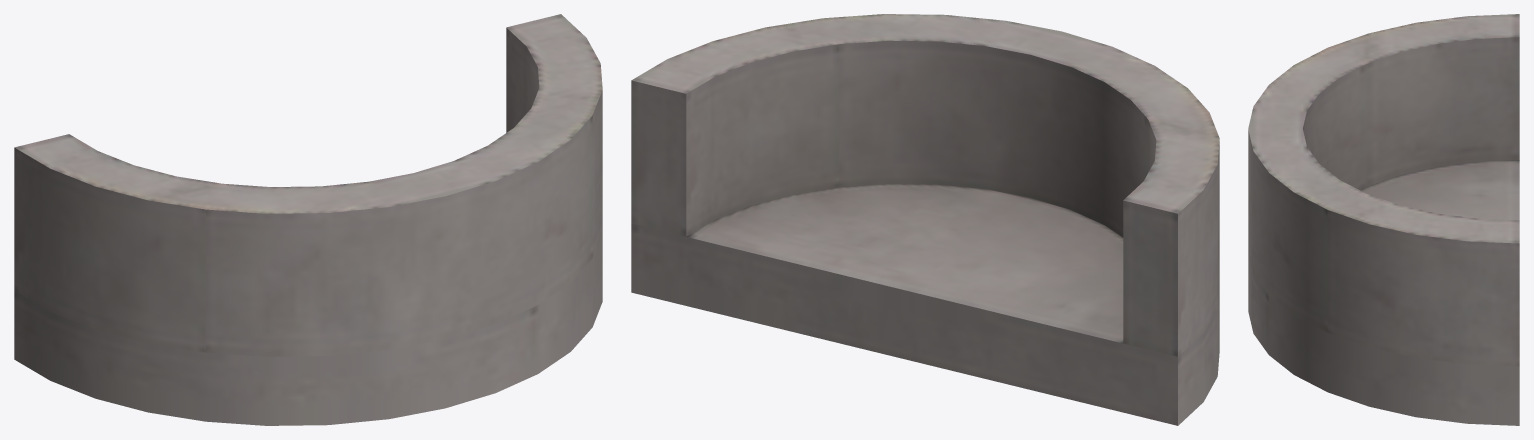
3 views of the same model, side by side, from view 1: azimuth 30°, elevation 25°; view 2: azimuth 150°, elevation 25°; view 3: azimuth 270°, elevation 25° (orthographic). The views are drawn at different scales.
Visible parts, largest first — view 1: Cube.020, Cube.014; view 2: Cube.020, Cube.014; view 3: Cube.020, Cube.014.
Part boxes in pixels (box(x1,y1,x2,y2)): Cube.020: box(14, 14, 602, 356); Cube.014: box(14, 233, 602, 425); Cube.020: box(631, 14, 1219, 356); Cube.014: box(631, 184, 1219, 425); Cube.020: box(1248, 14, 1519, 366); Cube.014: box(1248, 160, 1519, 425).
Size of the model in its own units: 4 by 1.48 by 2.
1 material, 1 textured.
